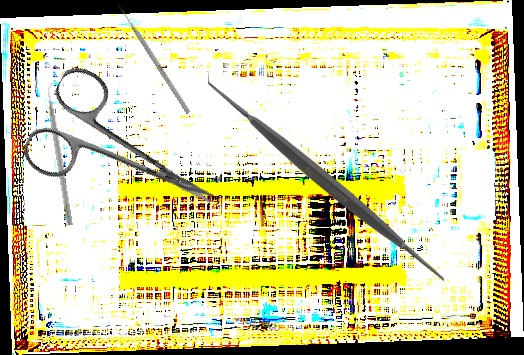Chopper: (44, 80, 81, 226)
Iris Scissors: (16, 61, 238, 252)
Pusher: (114, 0, 192, 115)
Spatula Surgical: (208, 64, 444, 297)
